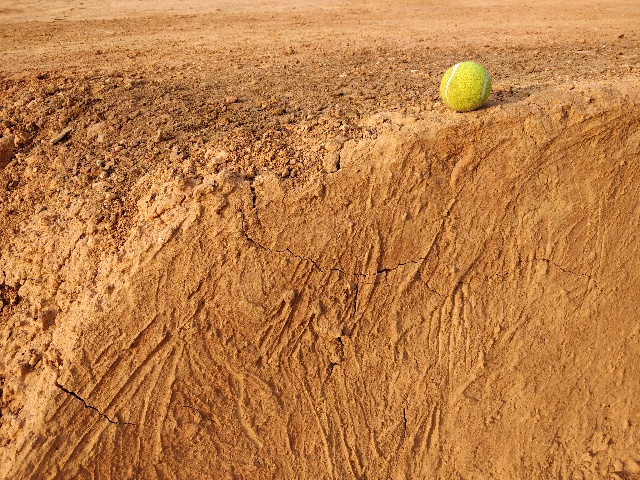ball: (433, 59, 500, 115)
